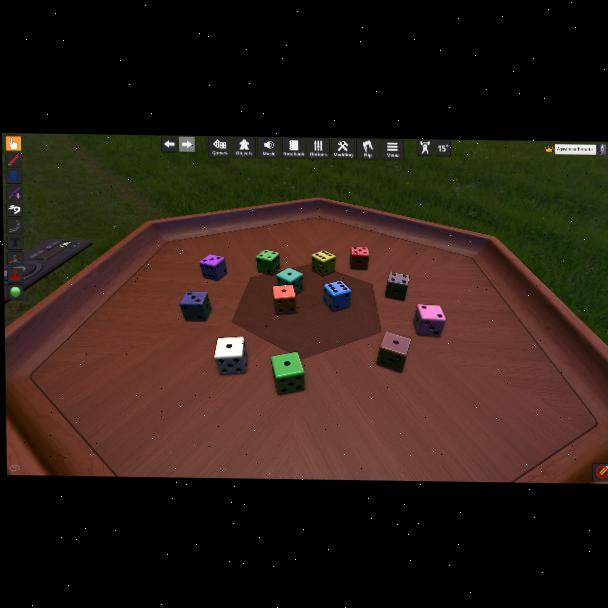d6: (270, 351, 305, 395), (376, 332, 410, 374), (213, 336, 247, 375), (179, 290, 212, 322), (414, 304, 445, 337), (323, 280, 350, 312), (199, 254, 227, 282), (275, 268, 303, 295), (273, 285, 298, 315), (385, 272, 409, 302), (255, 250, 281, 276), (311, 251, 335, 277), (350, 246, 369, 270)
